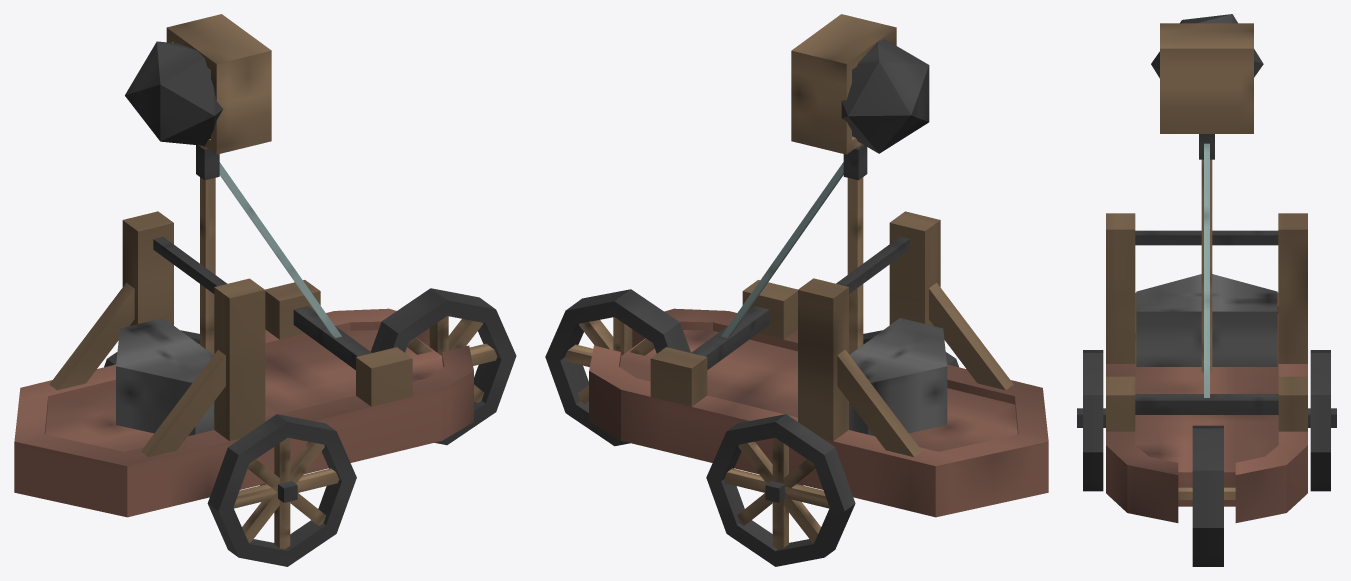
File: Xebanda.fbx
The picture shows the model from 3 angles, left to right: view 1: azimuth 30°, elevation 25°; view 2: azimuth 150°, elevation 25°; view 3: azimuth 270°, elevation 25°; orthographic projection. The views are drawn at different scales.
Visible parts, largest first — view 1: Xebanda; view 2: Xebanda; view 3: Xebanda.
Boxes of the visible parts, x1,y1,x2,y2 form: Xebanda: (14, 14, 516, 566); Xebanda: (545, 14, 1048, 566); Xebanda: (1077, 14, 1336, 566).
Bounding box in the file's own units: 459 × 426 × 222.
